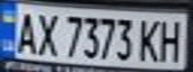3: (78, 12, 100, 60), (115, 16, 136, 61)
7: (60, 11, 84, 58), (97, 14, 118, 61)
A: (12, 8, 39, 55)
H: (154, 16, 187, 63)
K: (136, 16, 163, 63)
X: (33, 9, 60, 57)
